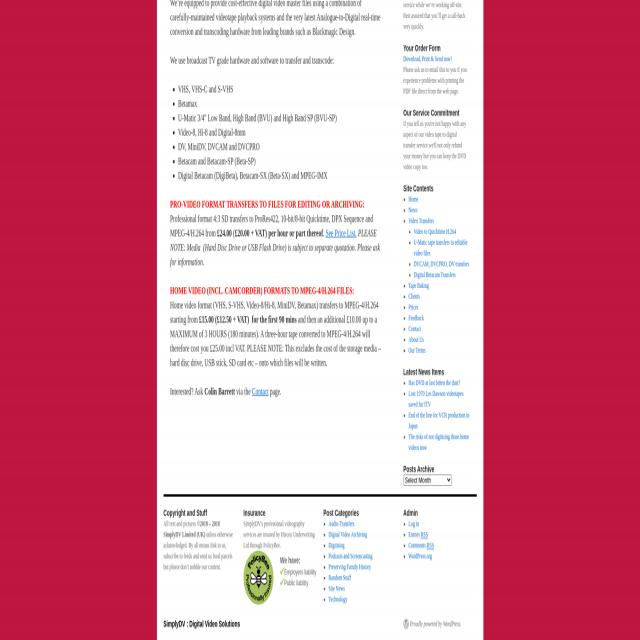button: (243, 550, 273, 604), (280, 578, 284, 586), (280, 568, 284, 574)
field: (403, 474, 452, 486)
